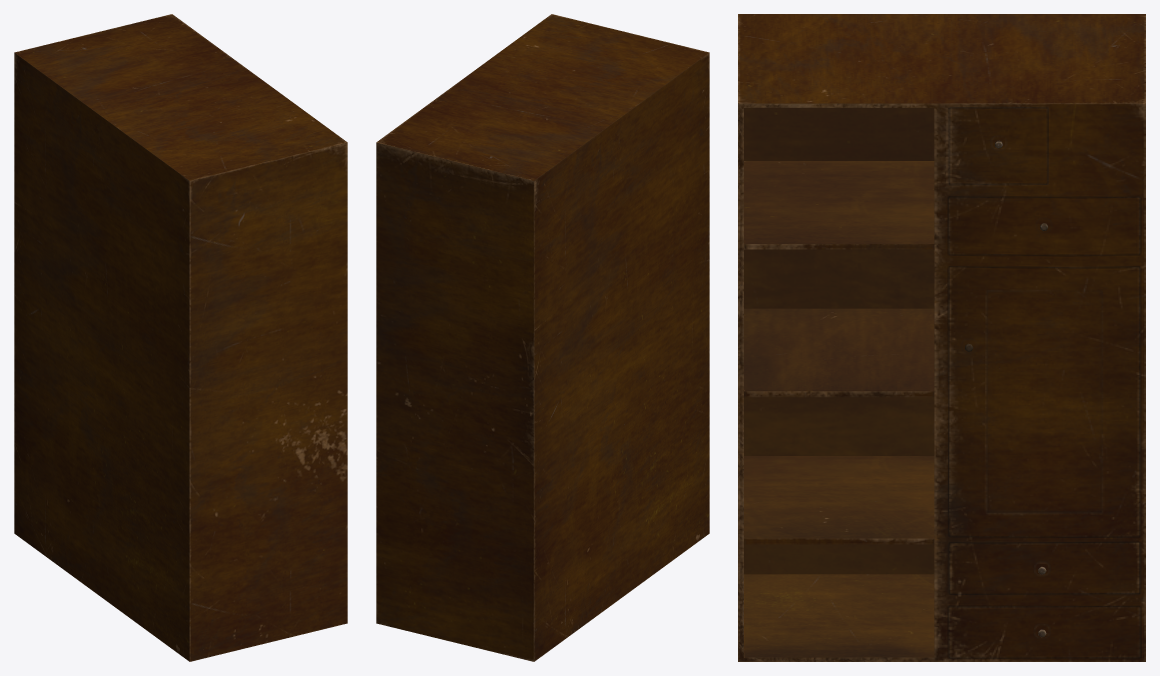
File: wardrobe-6.glb
3 views of the same model, side by side, from view 1: azimuth 30°, elevation 25°; view 2: azimuth 150°, elevation 25°; view 3: azimuth 270°, elevation 25° (orthographic). The views are drawn at different scales.
Visible parts, largest first — view 1: antique; view 2: antique; view 3: antique.
Boxes of the visible parts, x1,y1,x2,y2 form: antique: [14, 14, 347, 661]; antique: [376, 14, 709, 661]; antique: [738, 14, 1145, 661].
Size of the model in its own units: 1.29 by 3.63 by 2.4.
1 material, 1 textured.
